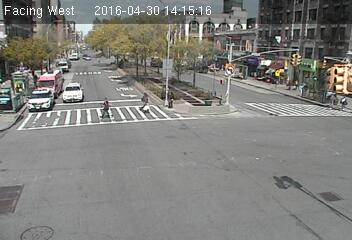neg: (24, 100, 48, 132), (105, 67, 124, 93), (51, 71, 69, 95), (129, 63, 143, 82), (199, 94, 213, 112)
